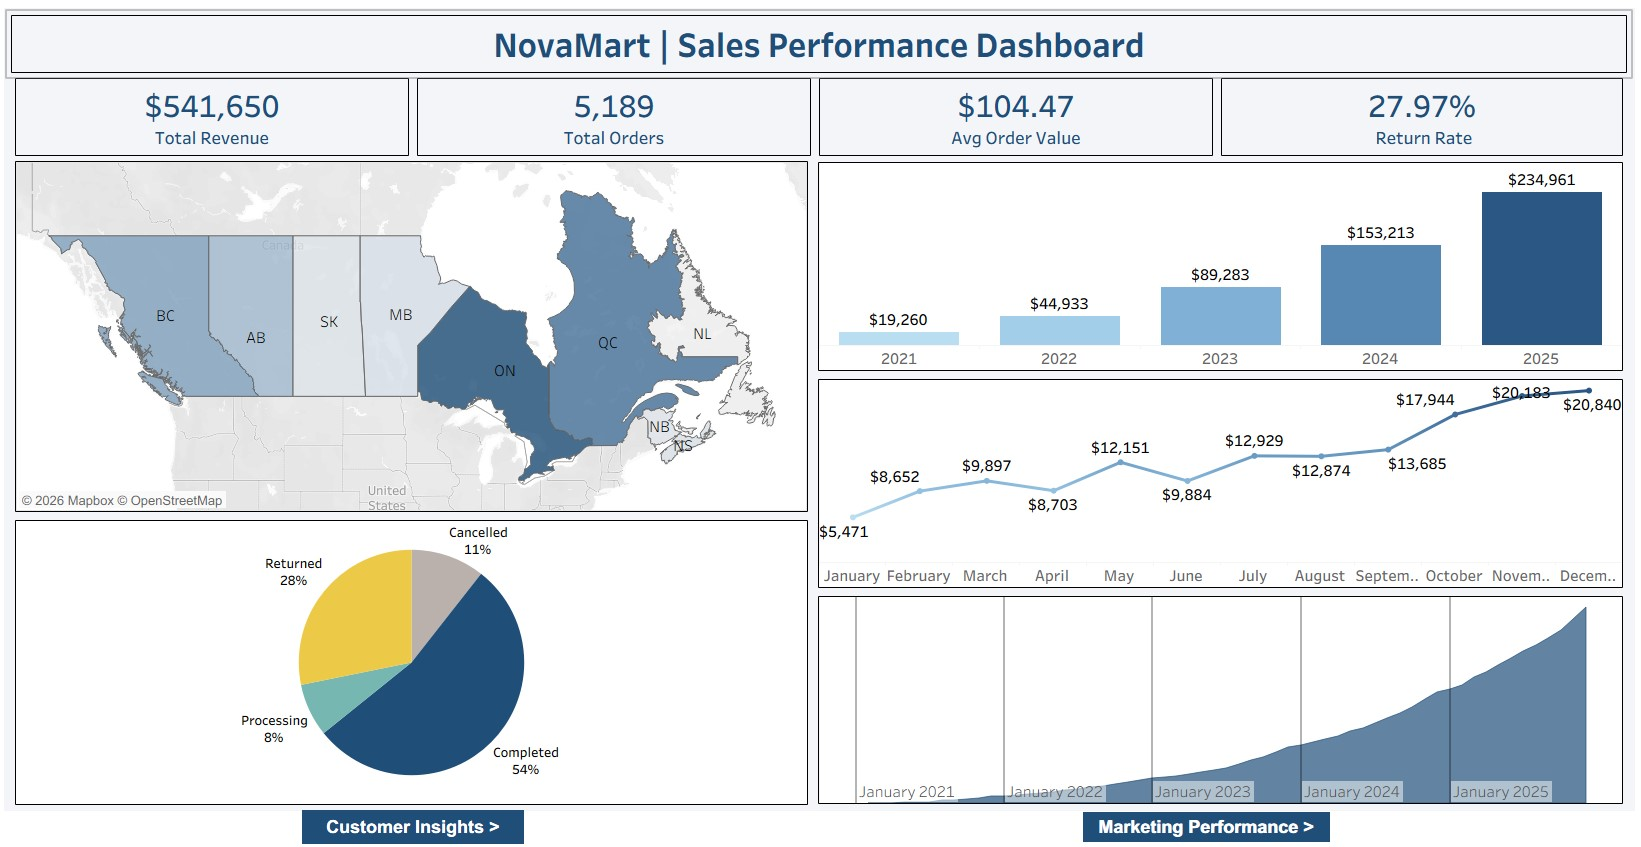

What the dashboard file says about the page in this screenshot:
{"tool":"tableau","page":{"name":"Dashboard 1","canvas":[1000,1000],"units":"permille","ordinal":0},"visuals":[{"type":"text","box":[6.7,12.9,986.1,77.6]},{"type":"text","box":[9.2,87,244.1,101.1]},{"type":"text","box":[253.2,87,244.1,101.1]},{"type":"text","box":[497.3,87,244.1,101.1]},{"type":"text","box":[741.3,87,248.9,101.1]},{"type":"worksheet","title":"Revenue by Province","mark":"Automatic","box":[9.1,184.5,486.4,421.9]},{"type":"worksheet","title":"Revenue by Year","mark":"Bar","rows":["order_total_cad"],"cols":["order_date"],"box":[496.7,185.7,493.6,255]},{"type":"worksheet","title":"Monthly Sales Trend 2024","mark":"Automatic","rows":["order_total_cad"],"cols":["order_date"],"box":[496.7,440.7,493.6,255]},{"type":"worksheet","title":"Order Status Breakdown","mark":"Pie","box":[9.1,606.4,486.4,344.3]},{"type":"worksheet","title":"Cumulative Revenue 2021-2025","mark":"Area","rows":["order_total_cad"],"cols":["order_date"],"box":[496.7,695.6,493.6,253.8]},{"type":"dashboard-object","box":[184,951.8,134.2,41.1]},{"type":"blank","box":[4.9,952.9,990.3,37.7]},{"type":"dashboard-object","box":[687.3,954.2,150.6,36.4]}]}

Visuals, with their boxes on the dashboard's canvas, which has no fixed pixel size, in thousandths of its width and height (x1, y1, x2, y2). These are canvas units, not pixel positions in the 1641x847 screenshot, which may show the page scaled, cropped or inside an application window:
text: pyautogui.locateOnScreen(7, 13, 993, 90)
text: pyautogui.locateOnScreen(9, 87, 253, 188)
text: pyautogui.locateOnScreen(253, 87, 497, 188)
text: pyautogui.locateOnScreen(497, 87, 741, 188)
text: pyautogui.locateOnScreen(741, 87, 990, 188)
"Revenue by Province" worksheet: pyautogui.locateOnScreen(9, 184, 496, 606)
"Revenue by Year" worksheet (Bar marks): pyautogui.locateOnScreen(497, 186, 990, 441)
"Monthly Sales Trend 2024" worksheet: pyautogui.locateOnScreen(497, 441, 990, 696)
"Order Status Breakdown" worksheet (Pie marks): pyautogui.locateOnScreen(9, 606, 496, 951)
"Cumulative Revenue 2021-2025" worksheet (Area marks): pyautogui.locateOnScreen(497, 696, 990, 949)
dashboard-object: pyautogui.locateOnScreen(184, 952, 318, 993)
blank: pyautogui.locateOnScreen(5, 953, 995, 991)
dashboard-object: pyautogui.locateOnScreen(687, 954, 838, 991)
